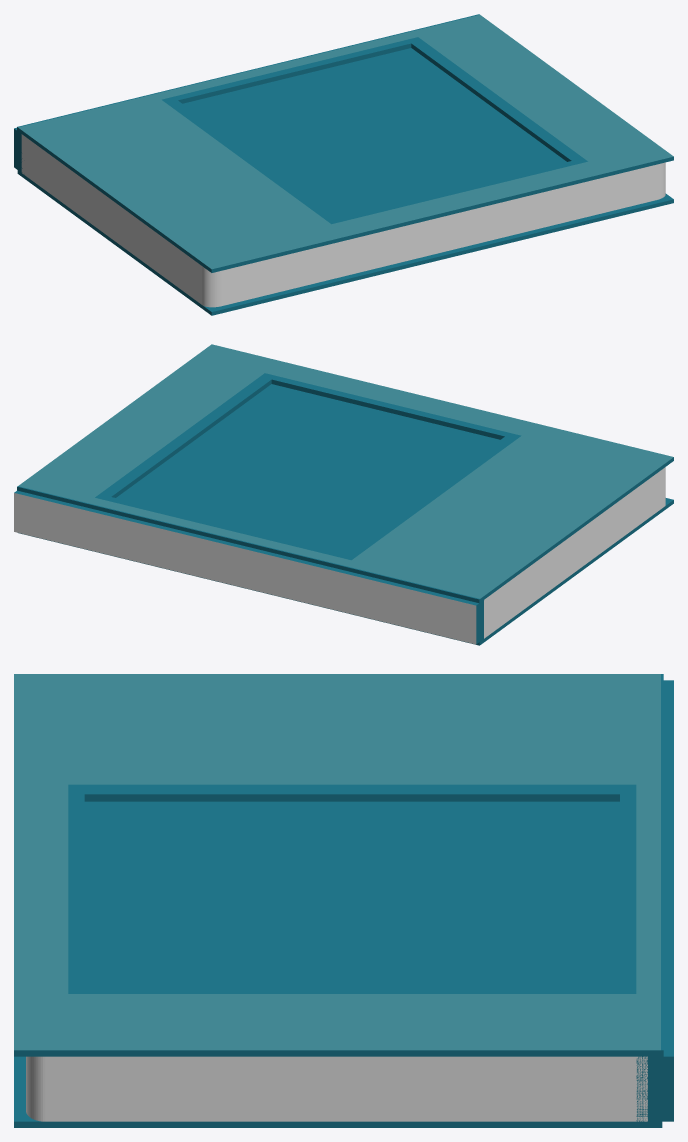
Rendered from book.glb.
3 views of the same model, one above another, from view 1: azimuth 30°, elevation 25°; view 2: azimuth 150°, elevation 25°; view 3: azimuth 270°, elevation 25° (orthographic). The views are drawn at different scales.
Parts seen in each view (by area): view 1: Object_3, Object_4, Object_2; view 2: Object_3, Object_4, Object_5, Object_2; view 3: Object_3, Object_4, Object_2.
Boxes of the visible parts, box(x1,y1,x2,y2) form: Object_3: box(14, 14, 673, 315); Object_4: box(18, 15, 673, 269); Object_2: box(21, 134, 665, 307); Object_3: box(14, 373, 673, 645); Object_4: box(18, 344, 673, 598); Object_5: box(14, 493, 476, 644); Object_2: box(484, 467, 665, 638); Object_3: box(14, 674, 673, 1127); Object_4: box(14, 674, 660, 1050); Object_2: box(26, 1056, 647, 1121).
Size of the model in its own units: 2 by 0.1922 by 1.48.
